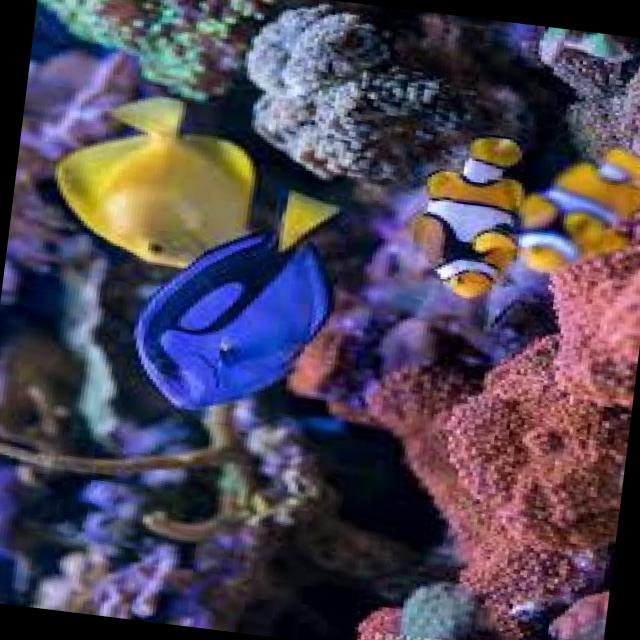BlueTang: (96, 160, 373, 450)
